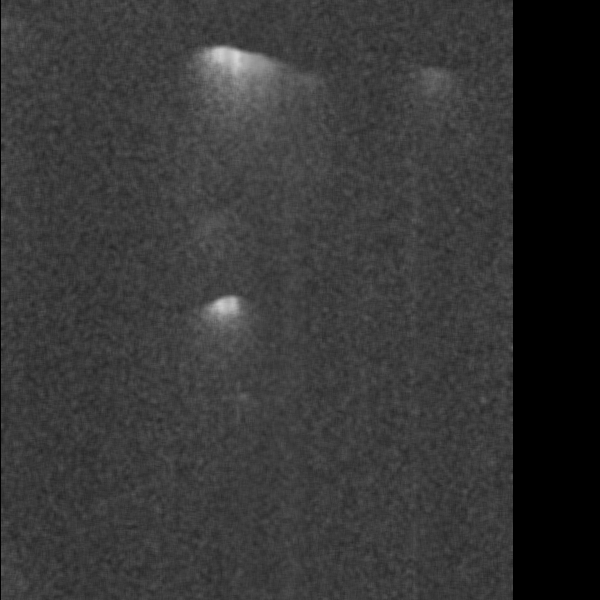spark: (147, 142, 178, 202), (191, 124, 230, 166)
